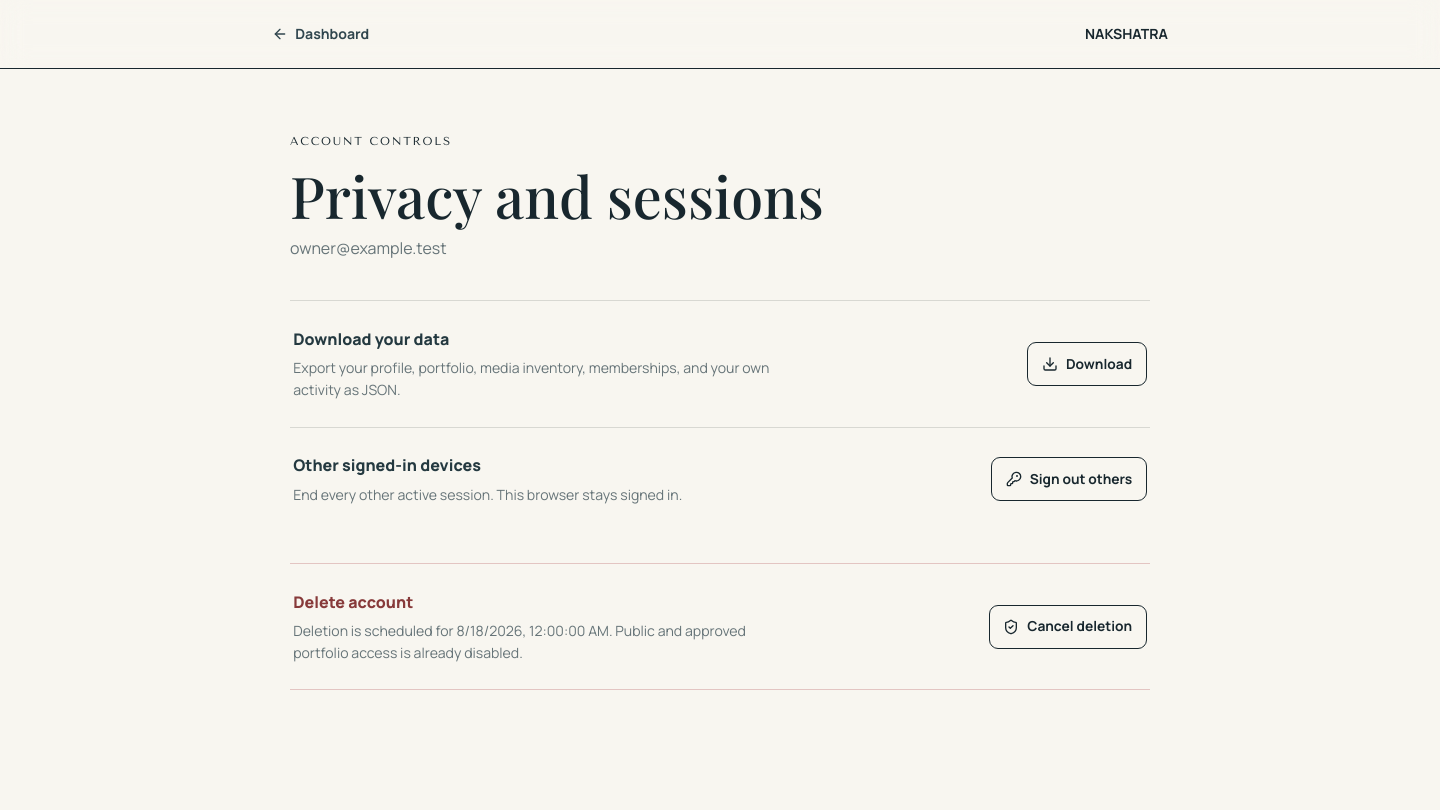
Test: account privacy screen › shows a pending request and lets the user cancel it
Check: the text "Public and approved portfolio access is already disabled" is shown, box [293,621,746,662]
Click the button "Cancel deletion" at (1068, 626), box [989,604,1147,648]
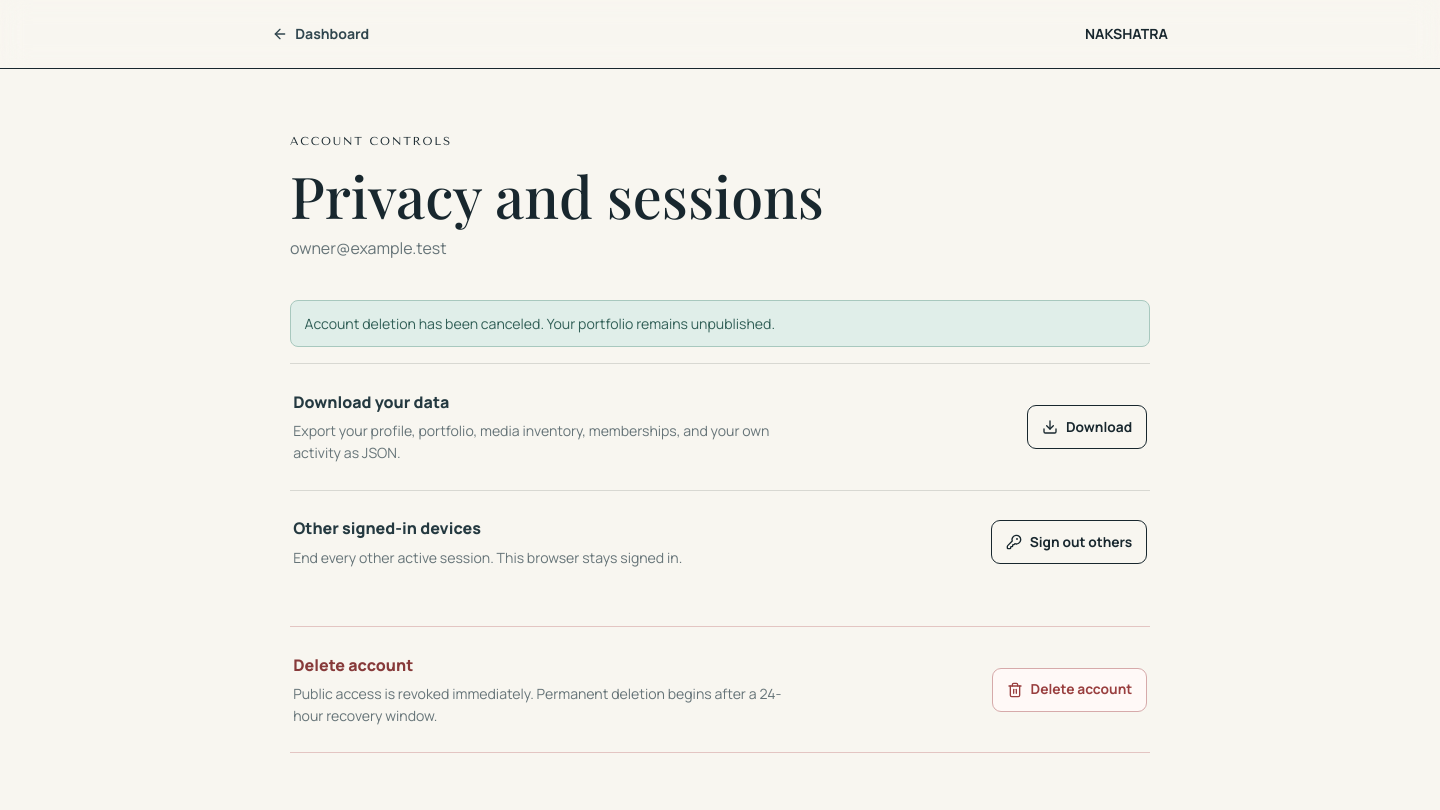
Check: the text "Account deletion has been canceled" is shown, box [305,314,775,333]
Check: the button "Delete account" is shown, box [992,668,1147,712]
